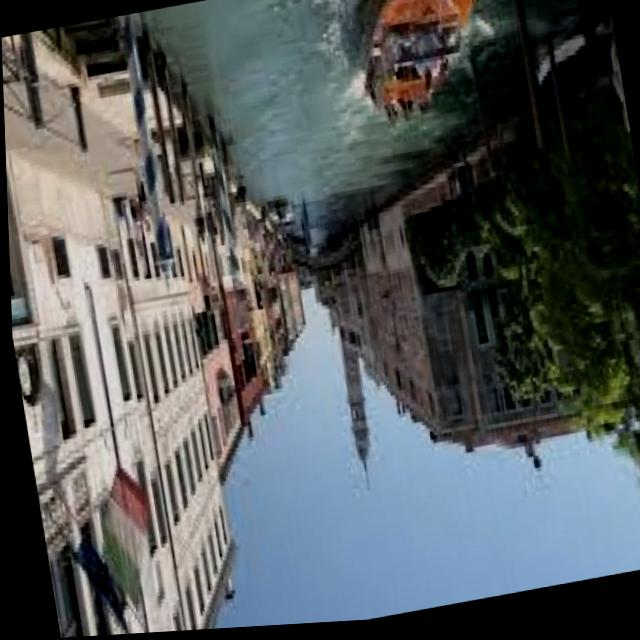ship2: (362, 0, 476, 126)
